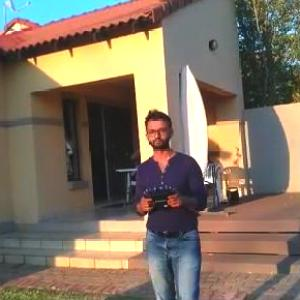follow: (133, 109, 206, 299)
